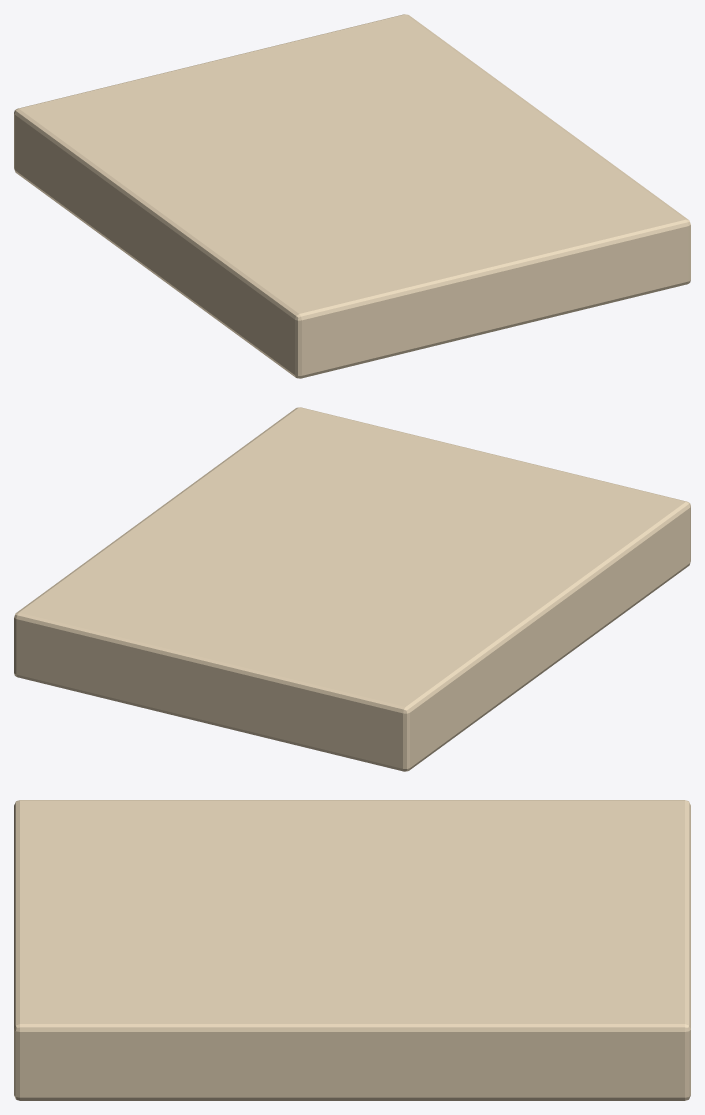
Rendered from Deck_S_Frag_plate_c_lab2.glb.
The picture shows the model from 3 angles, top to bottom: view 1: azimuth 30°, elevation 25°; view 2: azimuth 150°, elevation 25°; view 3: azimuth 270°, elevation 25°; orthographic projection. The views are drawn at different scales.
Parts seen in each view (by area): view 1: Deck_S_Frag_plate_c; view 2: Deck_S_Frag_plate_c; view 3: Deck_S_Frag_plate_c.
Part boxes in pixels (left/top/right/bottom): Deck_S_Frag_plate_c: left=14, top=14, right=690, bottom=378; Deck_S_Frag_plate_c: left=14, top=407, right=690, bottom=771; Deck_S_Frag_plate_c: left=14, top=800, right=690, bottom=1100.
Size of the model in its own units: 2.24 by 0.35 by 2.8.
